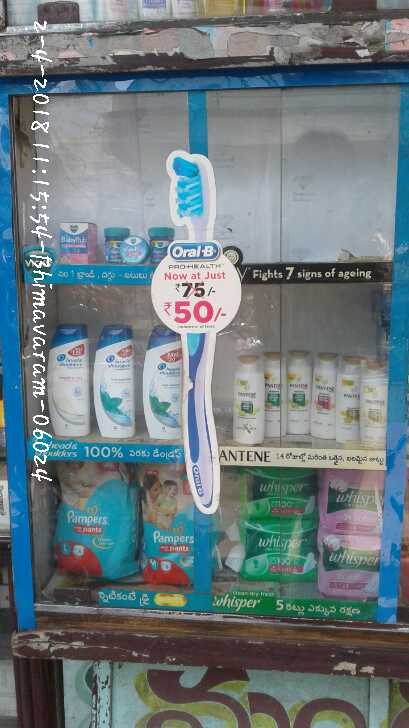vicks: (58, 218, 97, 263), (119, 235, 151, 266), (151, 227, 173, 266), (100, 225, 118, 262)
